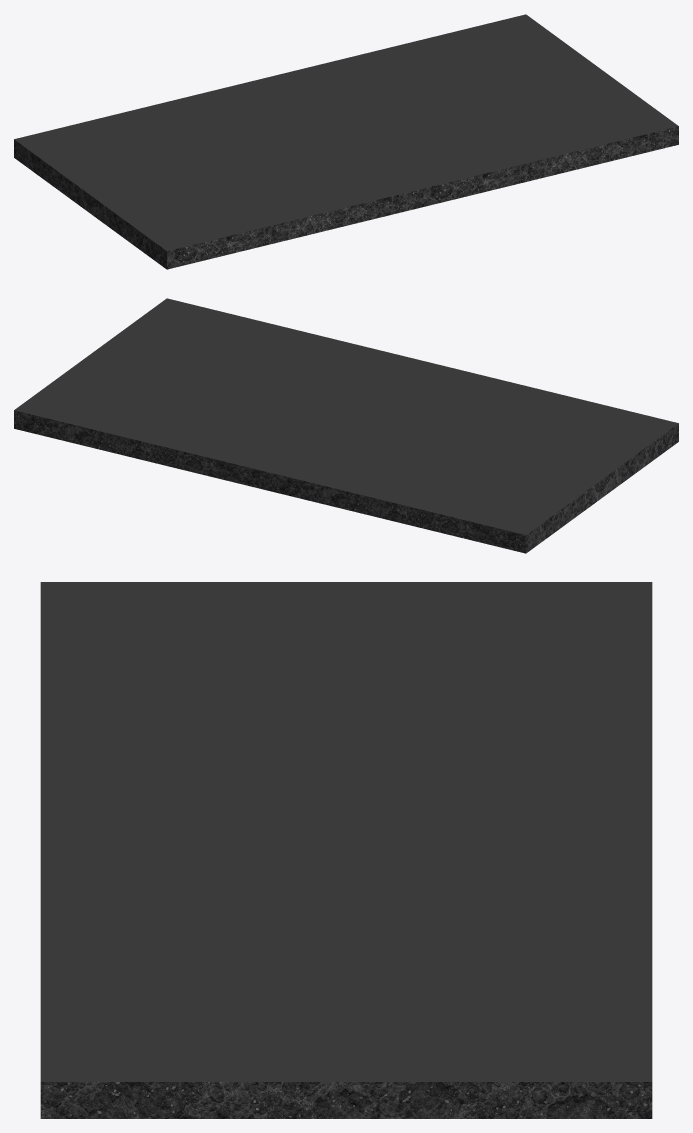
The model's file is SM_FloorPanelVP.FBX.
3 views of the same model, one above another, from view 1: azimuth 30°, elevation 25°; view 2: azimuth 150°, elevation 25°; view 3: azimuth 270°, elevation 25° (orthographic). The views are drawn at different scales.
Visible parts, largest first — view 1: SM_FloorPanelVP_LOD0; view 2: SM_FloorPanelVP_LOD0; view 3: SM_FloorPanelVP_LOD0.
Part boxes in pixels (box(x1,y1,x2,y2)): SM_FloorPanelVP_LOD0: box(14, 14, 678, 269); SM_FloorPanelVP_LOD0: box(14, 298, 678, 553); SM_FloorPanelVP_LOD0: box(40, 582, 652, 1118).
Bounding box in the file's own units: 580 × 300 × 20.
